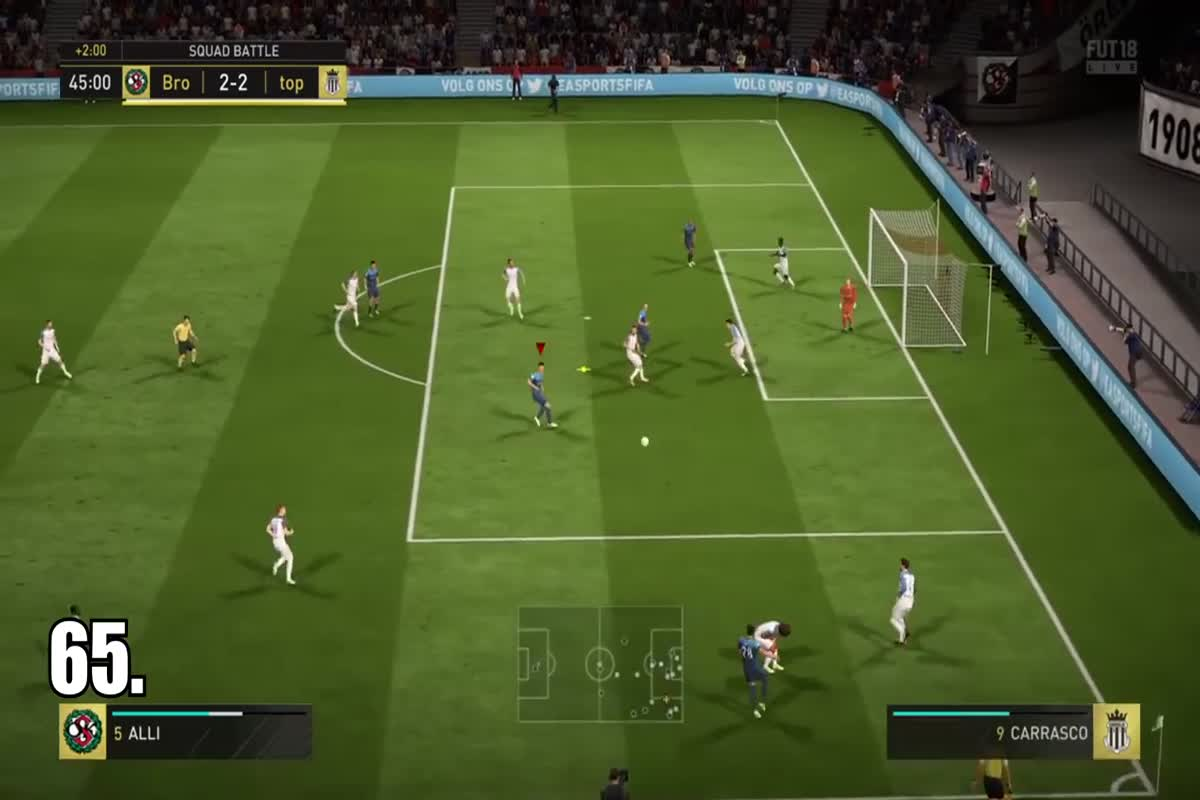ball: (630, 427, 664, 456)
